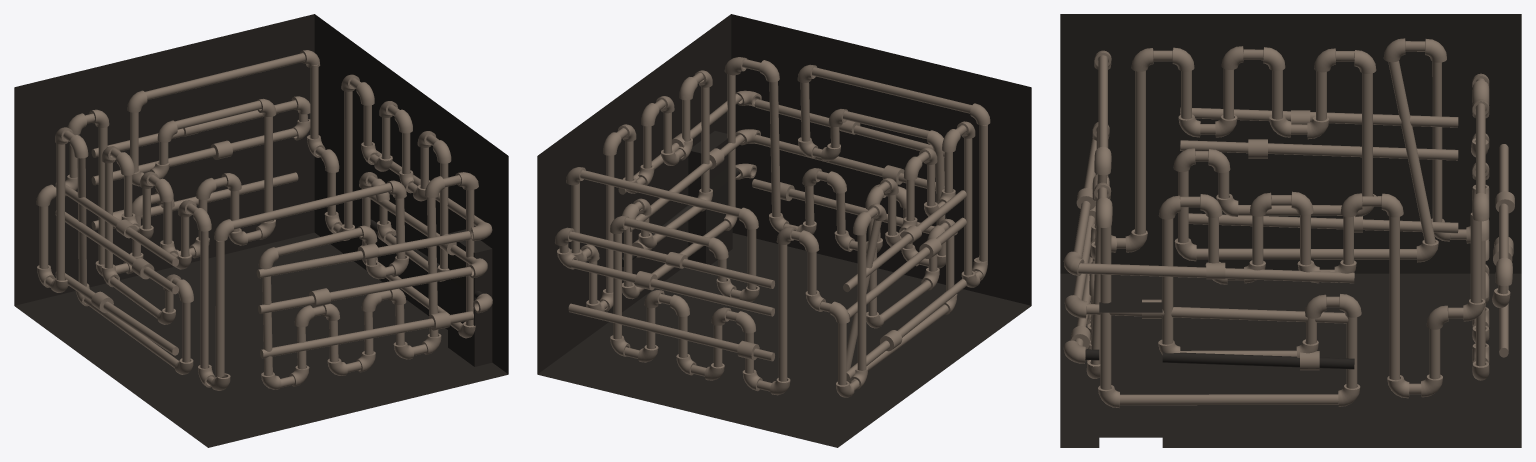
The model's file is distillery interior pipes 2019.fbx.
3 renders of one model, left to right at view 1: azimuth 30°, elevation 25°; view 2: azimuth 150°, elevation 25°; view 3: azimuth 270°, elevation 25°, orthographic. The views are drawn at different scales.
Visible parts, largest first — view 1: pCube3, polySurface465, polySurface464, polySurface463, polySurface381, polySurface130, polySurface446, polySurface377, polySurface386, polySurface445, polySurface410, polySurface238 (+23 smaller); view 2: pCube3, polySurface447, polySurface445, polySurface446, polySurface130, polySurface381, polySurface167, polySurface386, polySurface465, polySurface357, polySurface377, polySurface410 (+22 smaller); view 3: pCube3, polySurface450, polySurface455, polySurface231, polySurface456, polySurface451, polySurface444, polySurface454, polySurface434, polySurface410, polySurface238, polySurface258 (+28 smaller).
Part boxes in pixels (bbox=[...]): pCube3: bbox=[14, 14, 508, 447]; polySurface465: bbox=[256, 231, 470, 278]; polySurface464: bbox=[258, 266, 471, 313]; polySurface463: bbox=[260, 311, 473, 358]; polySurface381: bbox=[232, 183, 392, 229]; polySurface130: bbox=[145, 53, 305, 100]; polySurface446: bbox=[91, 128, 297, 185]; polySurface377: bbox=[215, 240, 224, 376]; polySurface386: bbox=[56, 138, 65, 280]; polySurface445: bbox=[91, 100, 297, 157]; polySurface410: bbox=[200, 231, 208, 368]; polySurface238: bbox=[344, 85, 352, 228]; pCube3: bbox=[537, 14, 1031, 447]; polySurface447: bbox=[568, 303, 774, 361]; polySurface445: bbox=[569, 231, 774, 288]; polySurface446: bbox=[570, 259, 774, 316]; polySurface130: bbox=[580, 170, 740, 217]; polySurface381: bbox=[812, 67, 971, 113]; polySurface167: bbox=[778, 244, 787, 381]; polySurface386: bbox=[857, 234, 866, 370]; polySurface465: bbox=[754, 99, 944, 157]; polySurface357: bbox=[769, 81, 780, 217]; polySurface377: bbox=[979, 125, 987, 261]; polySurface410: bbox=[964, 132, 972, 275]; pCube3: bbox=[1060, 14, 1521, 447]; polySurface450: bbox=[1078, 263, 1354, 283]; polySurface455: bbox=[1180, 140, 1458, 160]; polySurface231: bbox=[1120, 394, 1338, 405]; polySurface456: bbox=[1188, 213, 1458, 233]; polySurface451: bbox=[1086, 304, 1348, 323]; polySurface444: bbox=[1388, 61, 1435, 244]; polySurface454: bbox=[1180, 107, 1458, 127]; polySurface434: bbox=[1196, 248, 1416, 259]; polySurface410: bbox=[1135, 71, 1145, 234]; polySurface238: bbox=[1389, 216, 1399, 380]; polySurface258: bbox=[1100, 226, 1111, 389].
Bounding box in the file's own units: 10.65 × 7.4 × 11.92.
